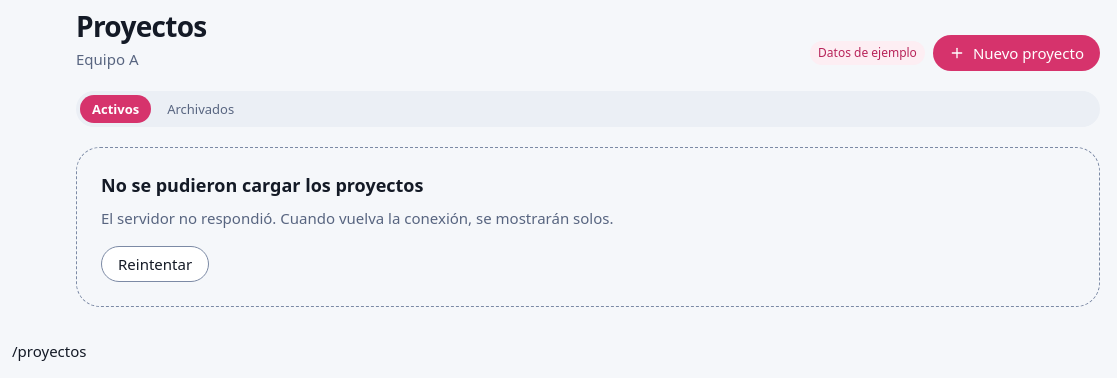
Test case: Proyectos (F3) › si no se pueden leer los proyectos, «Reintentar» los vuelve a pedir (F-10, H9)
Expected: the heading "No se pudieron cargar los proyectos" is shown, [101,172,423,198]
Click the button "Reintentar" at (155, 264), box [101,246,209,282]
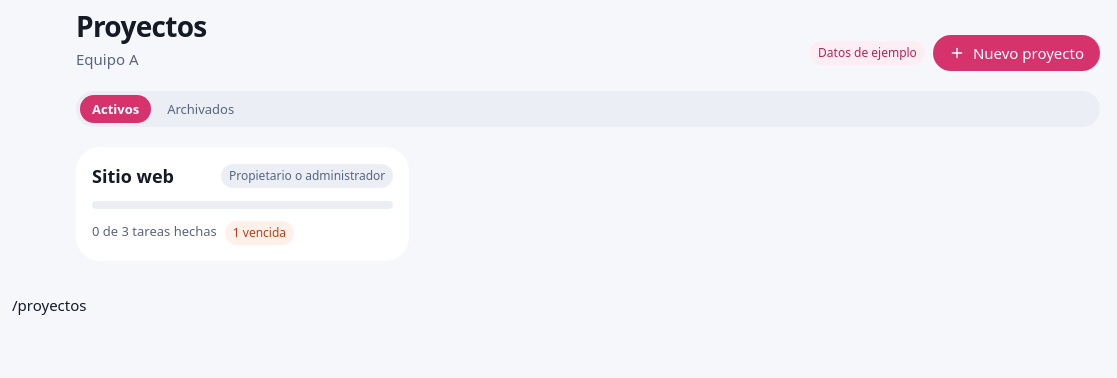
Expected: the link "Sitio web" is shown, [76,147,409,261]
